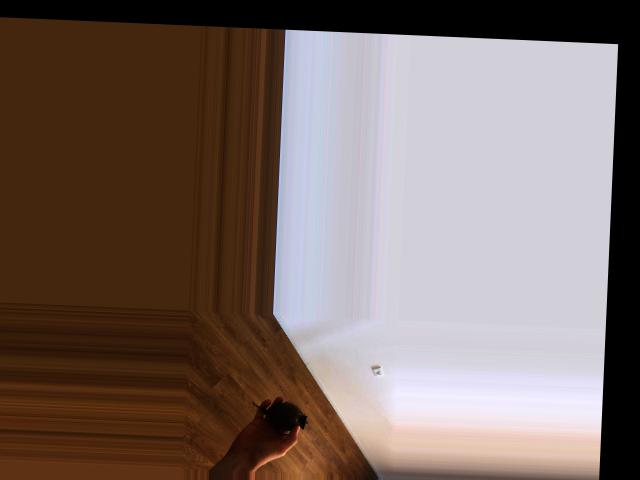beet: (251, 399, 307, 434)
